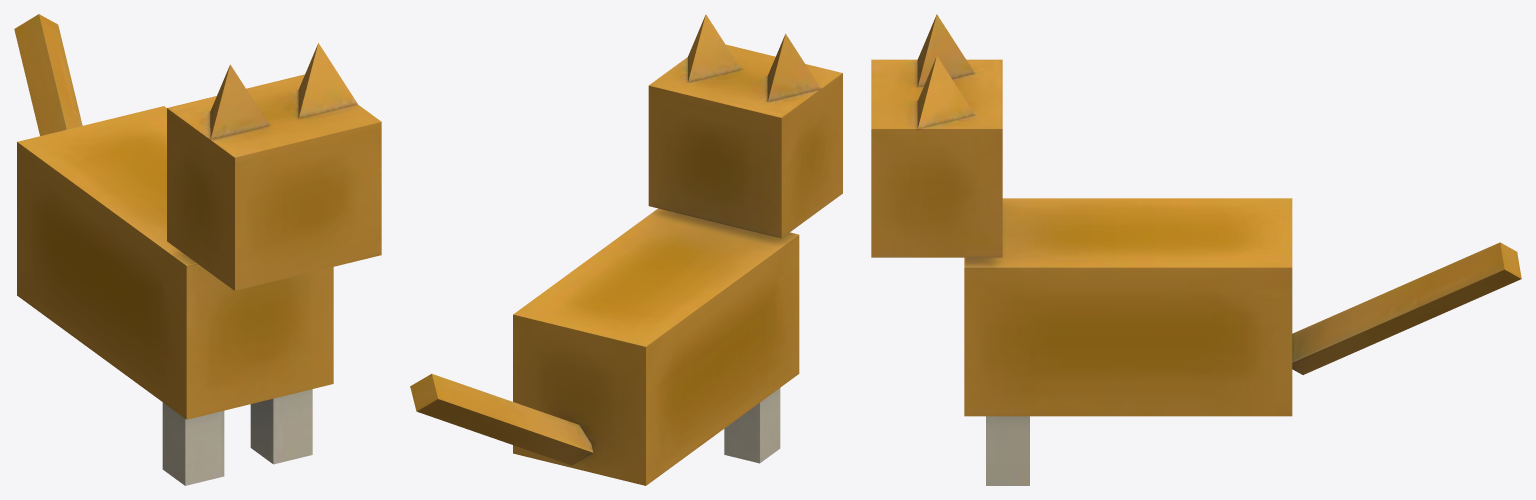
Rendered from life-cat.glb.
The picture shows the model from 3 angles, left to right: view 1: azimuth 30°, elevation 25°; view 2: azimuth 150°, elevation 25°; view 3: azimuth 270°, elevation 25°; orthographic projection. The views are drawn at different scales.
Parts seen in each view (by area): view 1: life-cat; view 2: life-cat; view 3: life-cat.
Boxes of the visible parts, x1,y1,x2,y2 form: life-cat: (14,14,381,485); life-cat: (410,14,842,485); life-cat: (871,14,1521,485).
Bounding box in the file's own units: 0.0309 × 0.085 × 0.119.
1 material, 1 textured.
